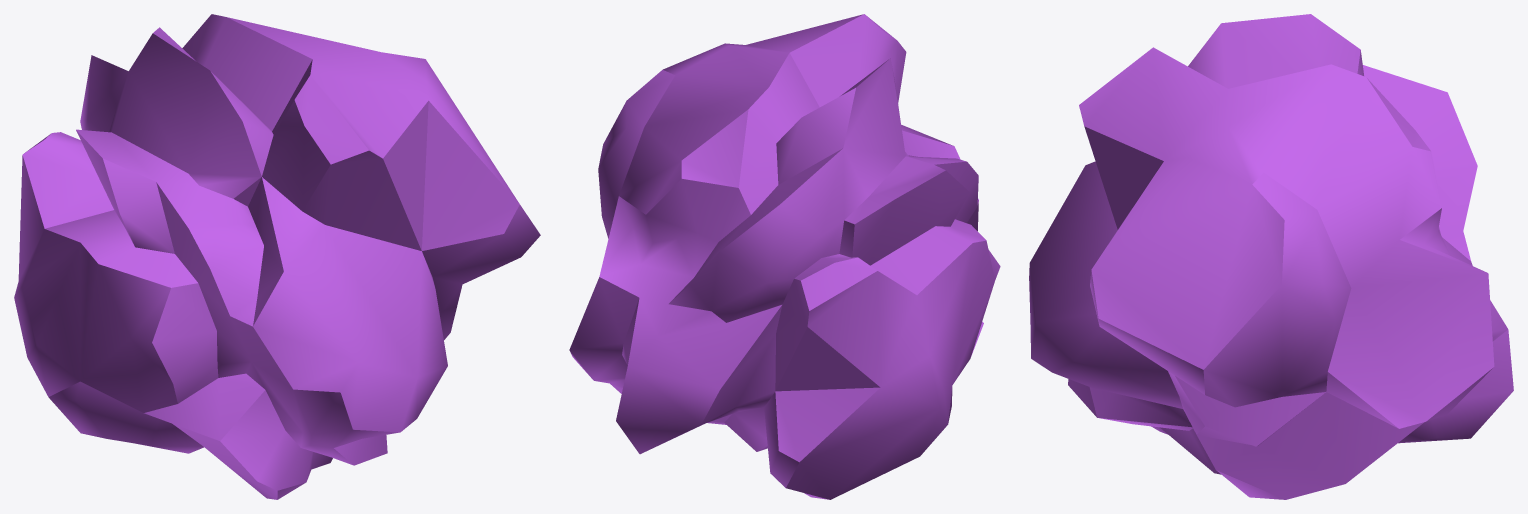
File: obj_resource_mineralpurple.fbx
The picture shows the model from 3 angles, left to right: view 1: azimuth 30°, elevation 25°; view 2: azimuth 150°, elevation 25°; view 3: azimuth 270°, elevation 25°; orthographic projection. The views are drawn at different scales.
Parts seen in each view (by area): view 1: obj_resource_mineralpurple_lod0; view 2: obj_resource_mineralpurple_lod0; view 3: obj_resource_mineralpurple_lod0.
Boxes of the visible parts, x1,y1,x2,y2 form: obj_resource_mineralpurple_lod0: (14, 14, 540, 499); obj_resource_mineralpurple_lod0: (569, 14, 1000, 499); obj_resource_mineralpurple_lod0: (1029, 14, 1513, 499).
Size of the model in its own units: 1.09 by 1.08 by 1.16.
